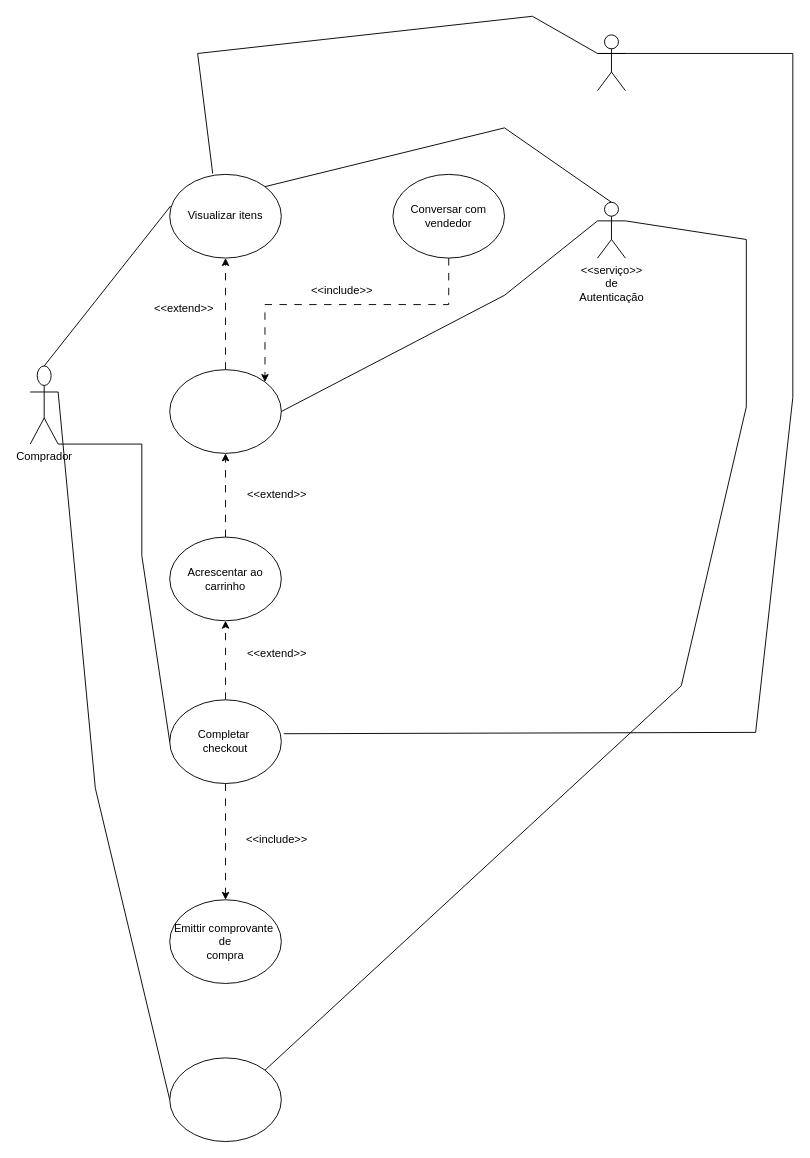
Some shapes in this 810 by 1158 pixel diagram are drawn without their labels. Each missing label, with the box of its shape:
Cadastrar Conta: (169, 1057, 281, 1142)
Efetuar Login: (169, 369, 281, 453)
Entidade Provedor: (597, 34, 625, 91)
